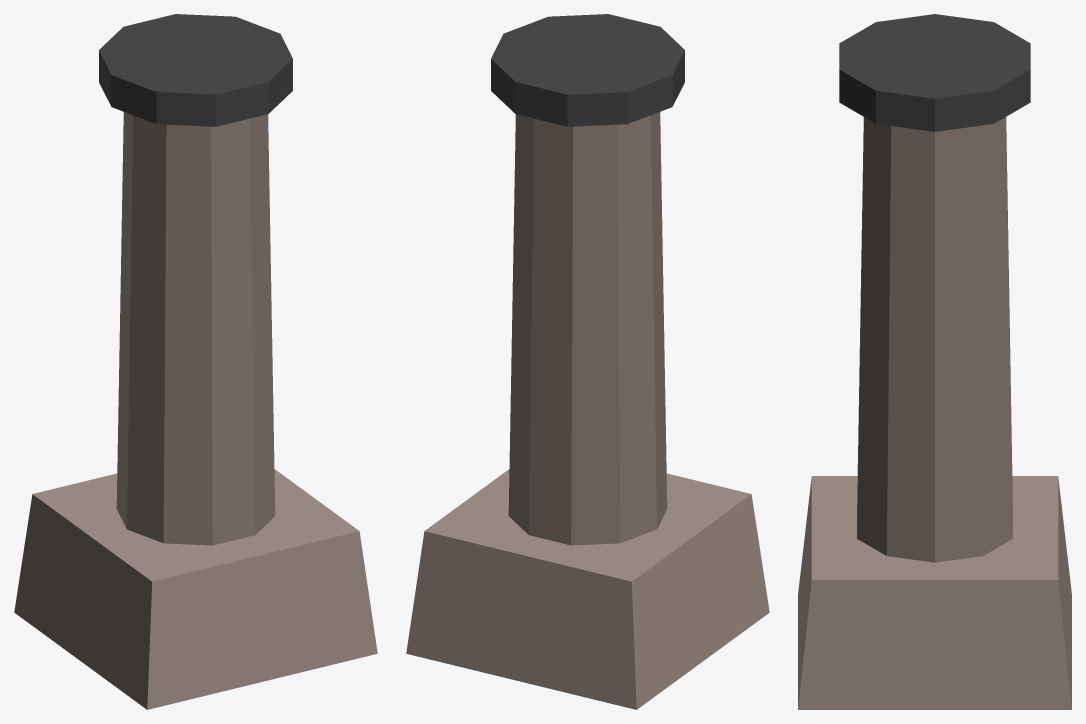
The model's file is chimney.glb.
3 renders of one model, left to right at view 1: azimuth 30°, elevation 25°; view 2: azimuth 150°, elevation 25°; view 3: azimuth 270°, elevation 25°, orthographic. The views are drawn at different scales.
Bounding box in the file's own units: 6 × 14.4 × 6.
